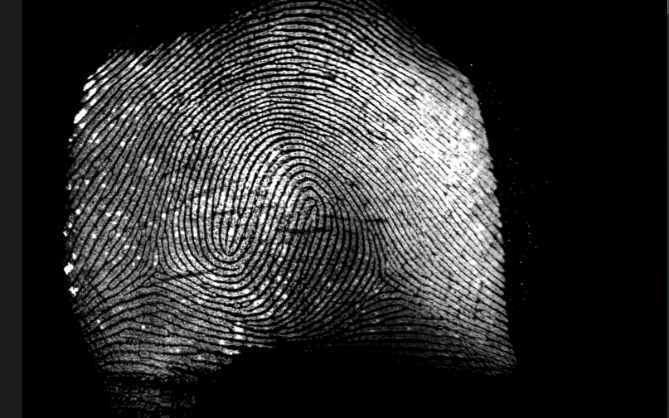deltas: (360, 257, 402, 301), (134, 247, 174, 286)
nucleo: (224, 168, 320, 250)
